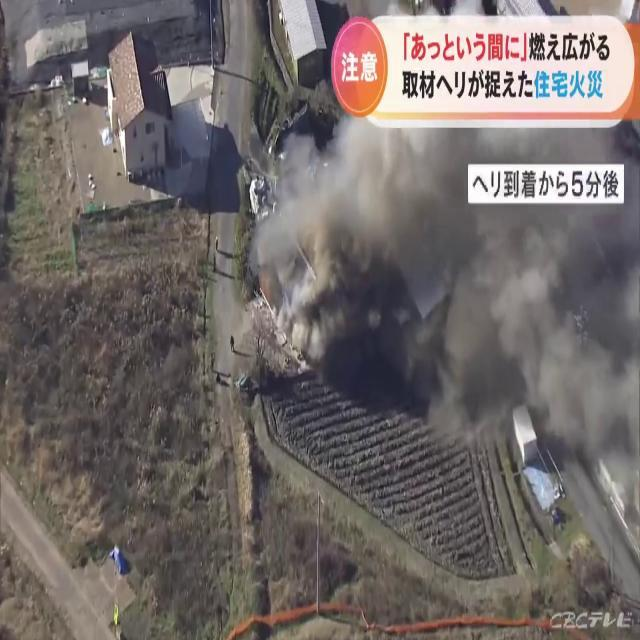Smoke: (235, 116, 640, 446)
